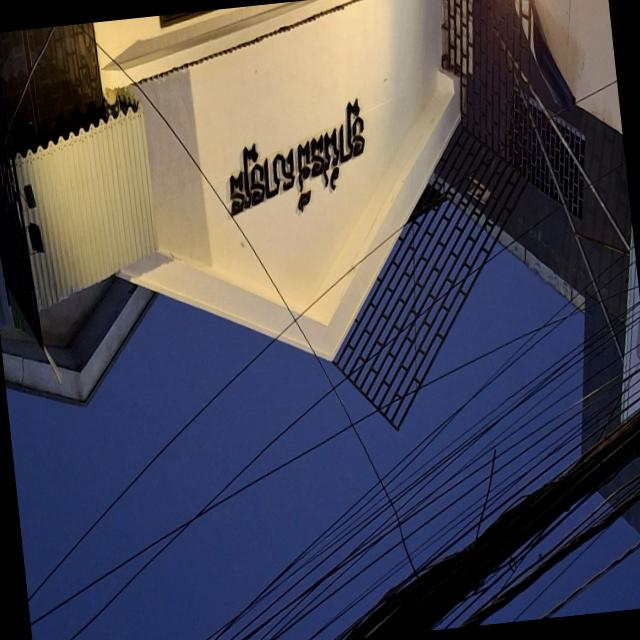Yolov11_80vkh: (210, 68, 387, 259)
